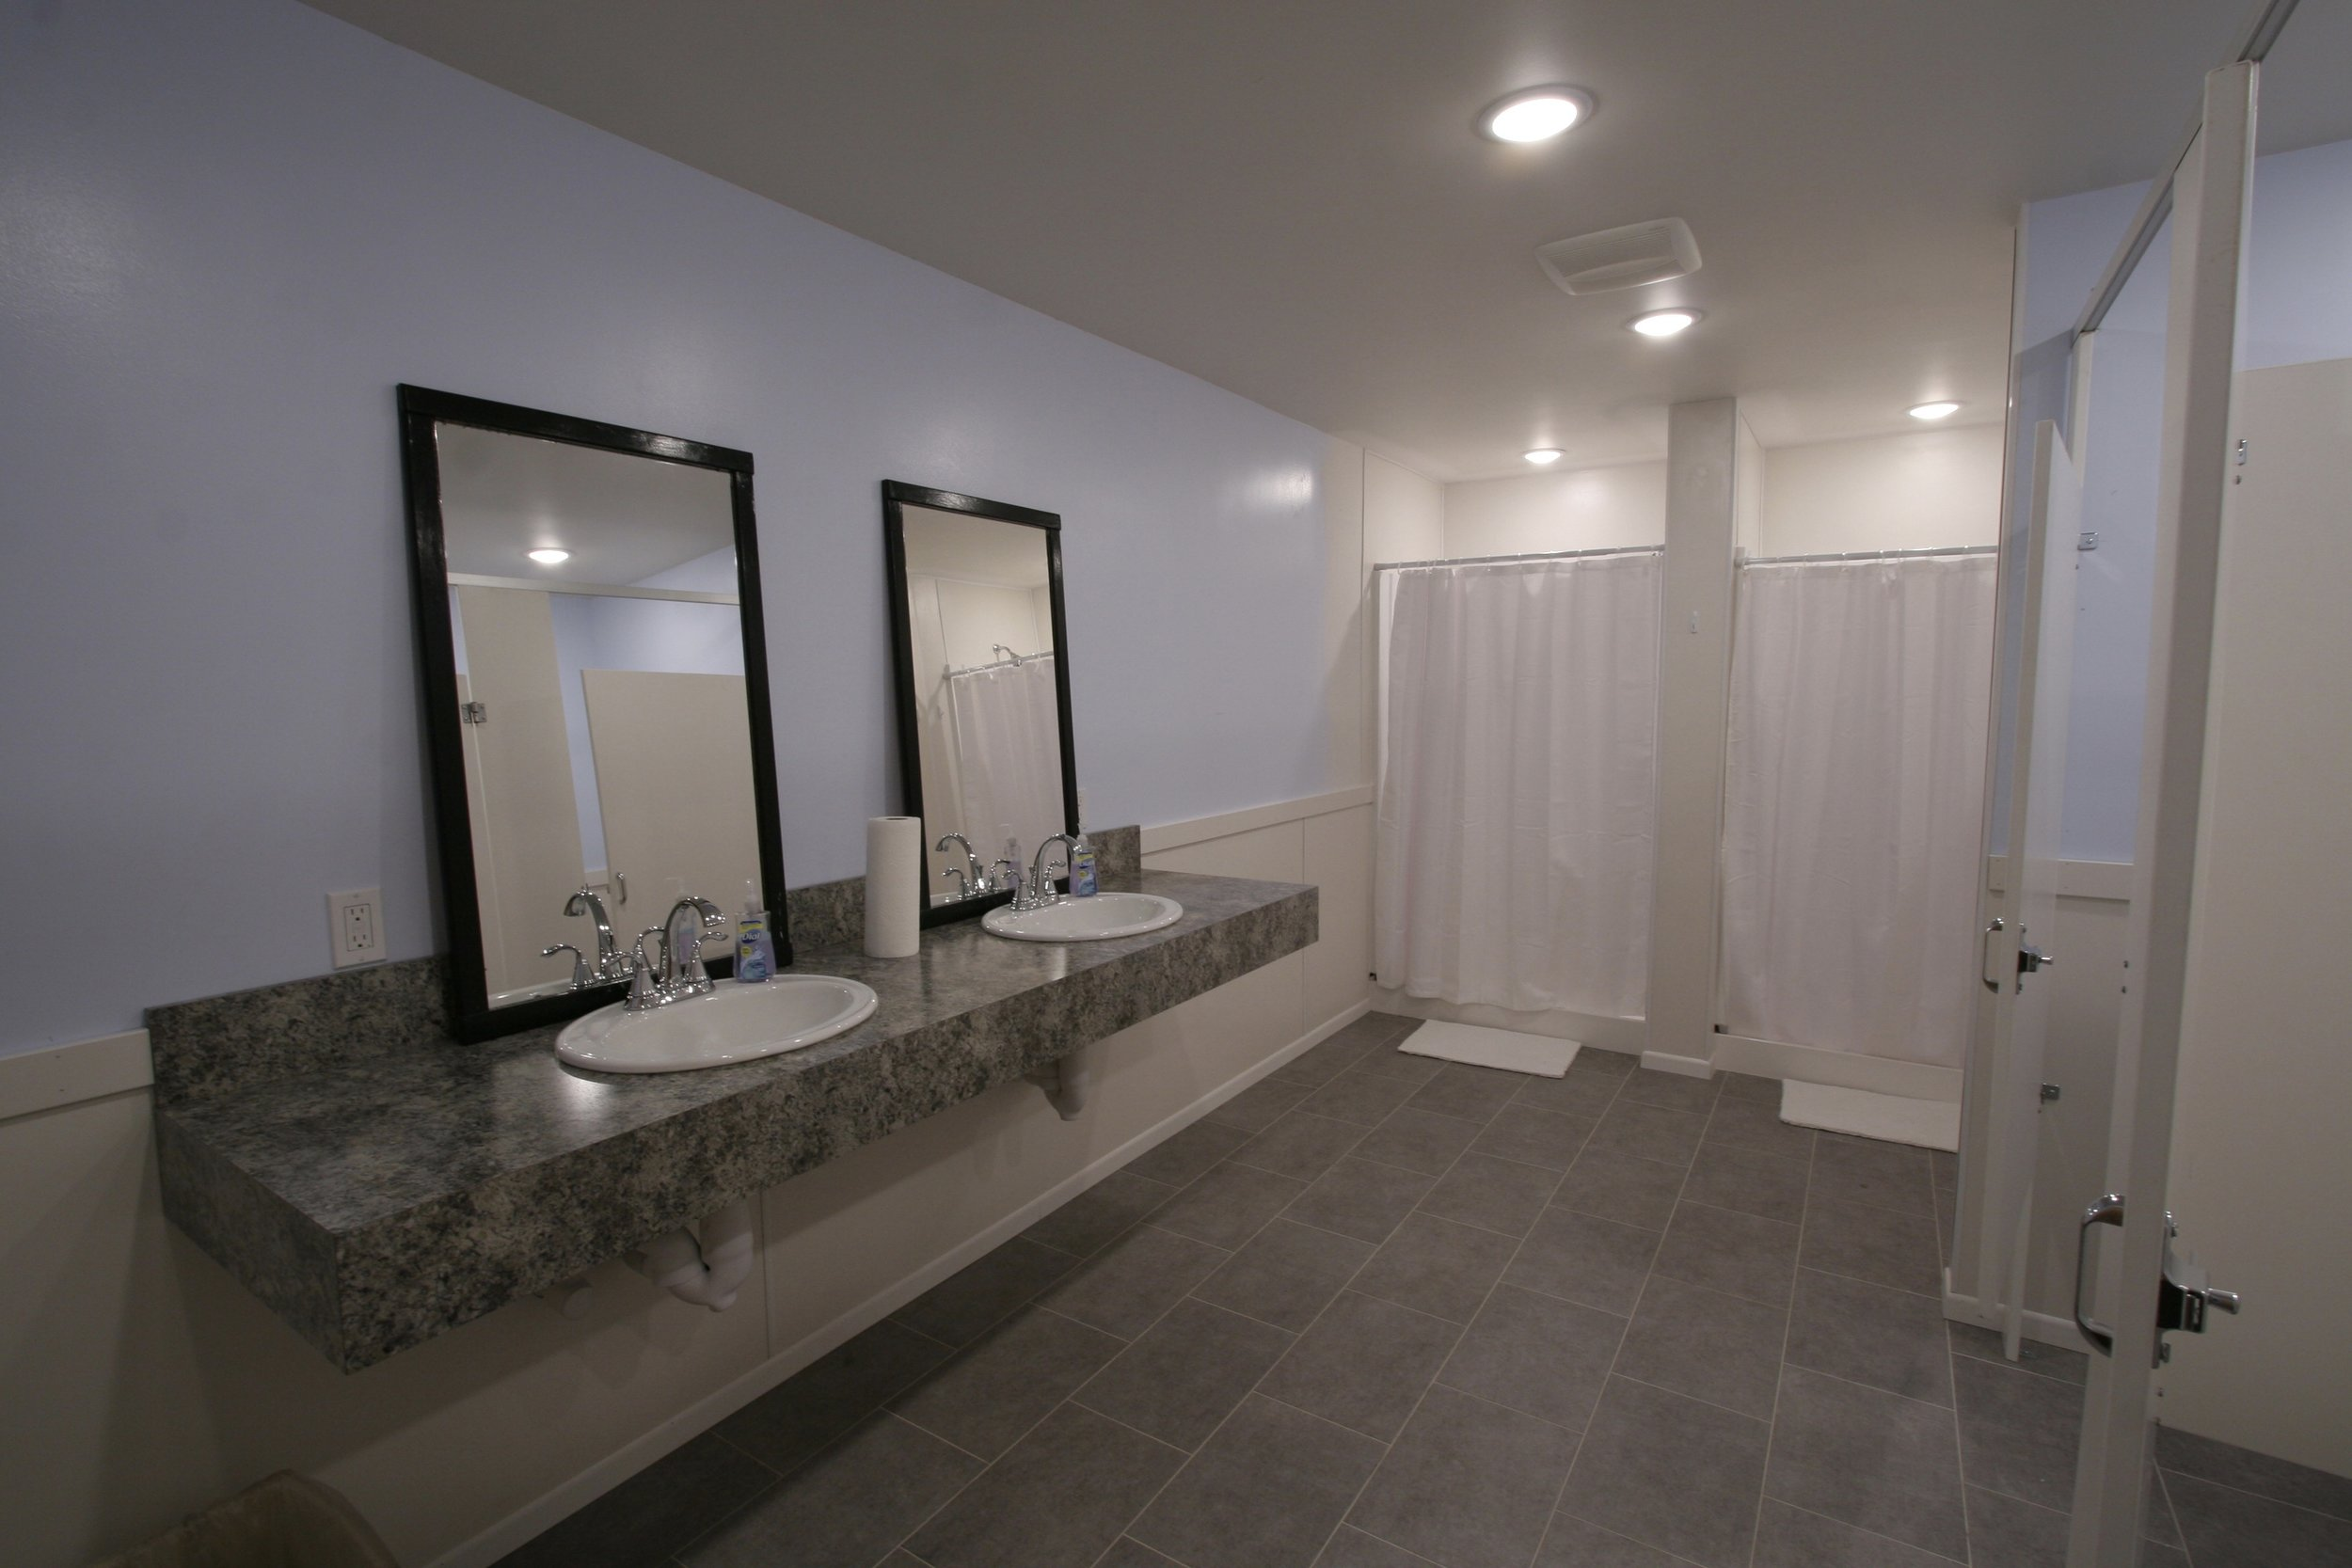countertop: (152, 884, 1332, 1379)
curtain: (1724, 548, 2002, 1062), (1382, 548, 1678, 1025)
dispenser: (866, 814, 922, 961)
door_handle: (2065, 1181, 2130, 1353), (2014, 913, 2054, 1003), (1967, 906, 2007, 996)
faucet: (618, 892, 728, 1017), (982, 831, 1090, 912)
sink: (551, 969, 891, 1090), (982, 889, 1190, 959)
